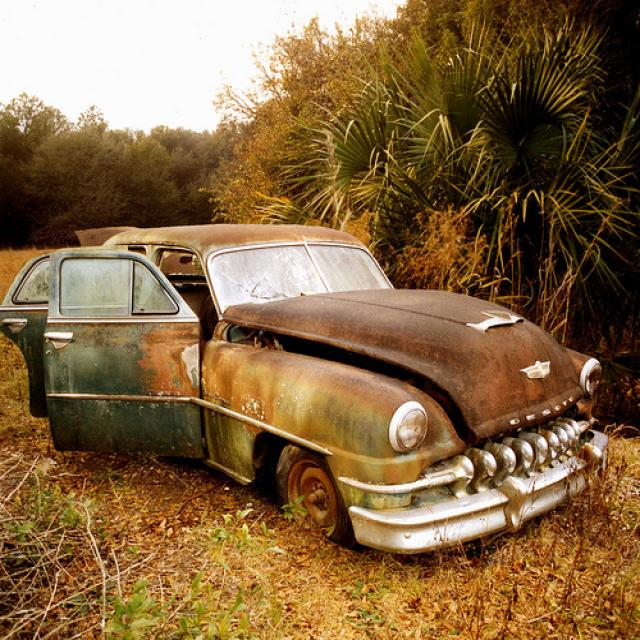Car: (0, 216, 610, 554)
